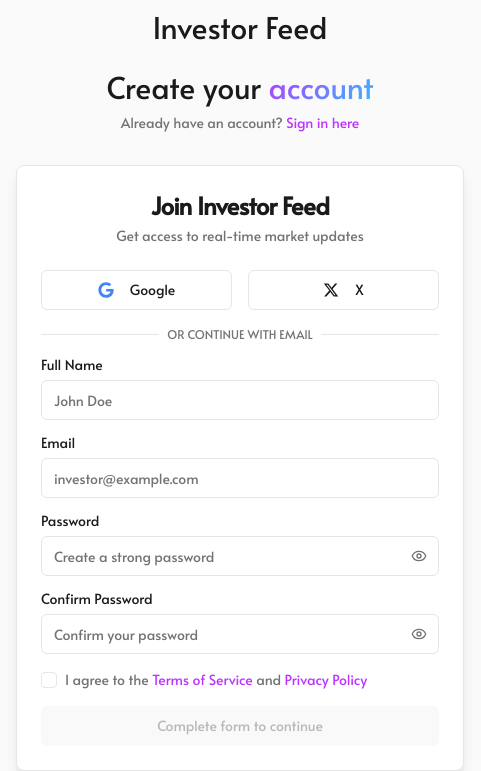
Scenario: Signup Page › should validate password strength
Note: Strong password
Type "Test123!@#" into the password field labelled "Password" at (240, 556), box [41,536,439,576]
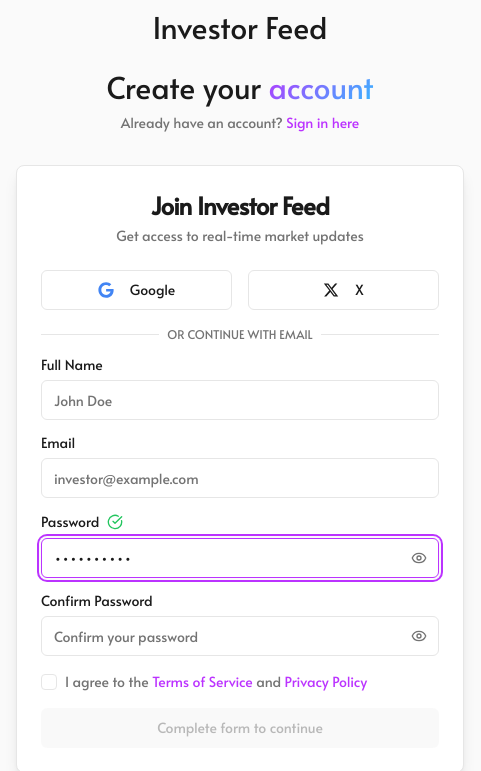
Expected: the 3rd icon is shown, [107,514,123,530]
